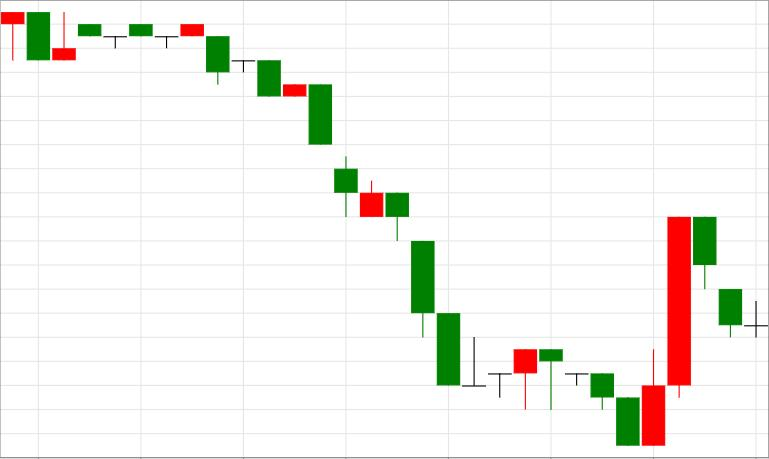bullish_engulfing_rise: (309, 84, 665, 446)
